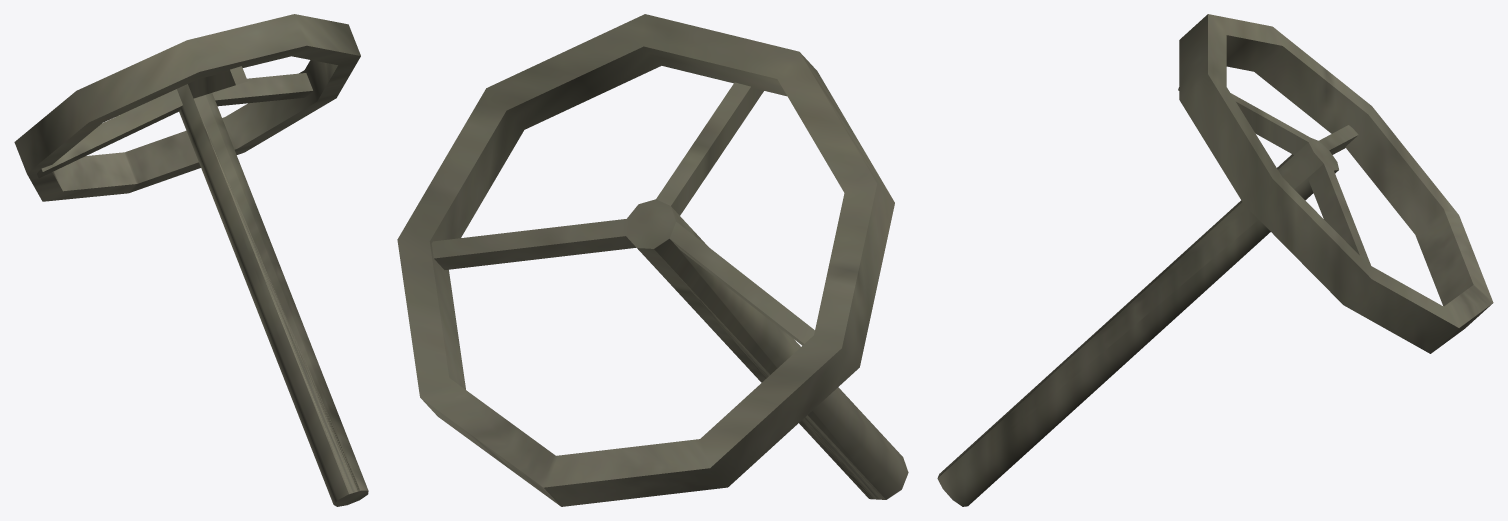
The model's file is jeep_wheel.FBX.
3 views of the same model, side by side, from view 1: azimuth 30°, elevation 25°; view 2: azimuth 150°, elevation 25°; view 3: azimuth 270°, elevation 25° (orthographic). The views are drawn at different scales.
Visible parts, largest first — view 1: Box05; view 2: Box05; view 3: Box05.
Part boxes in pixels (bbox=[...]): Box05: bbox=[14, 14, 368, 506]; Box05: bbox=[397, 14, 908, 506]; Box05: bbox=[937, 14, 1493, 506].
Size of the model in its own units: 115 by 143 by 157.
Materials: 1 (1 with a texture image).
